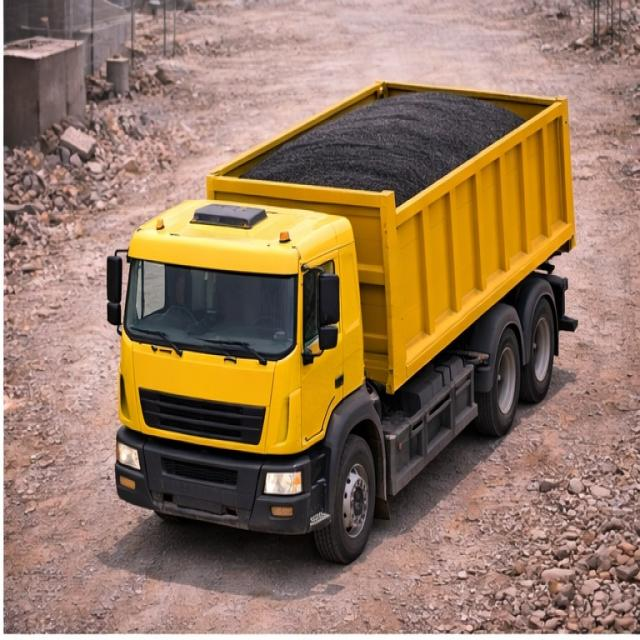Box: (203, 78, 570, 211)
Truck: (103, 42, 576, 556)
